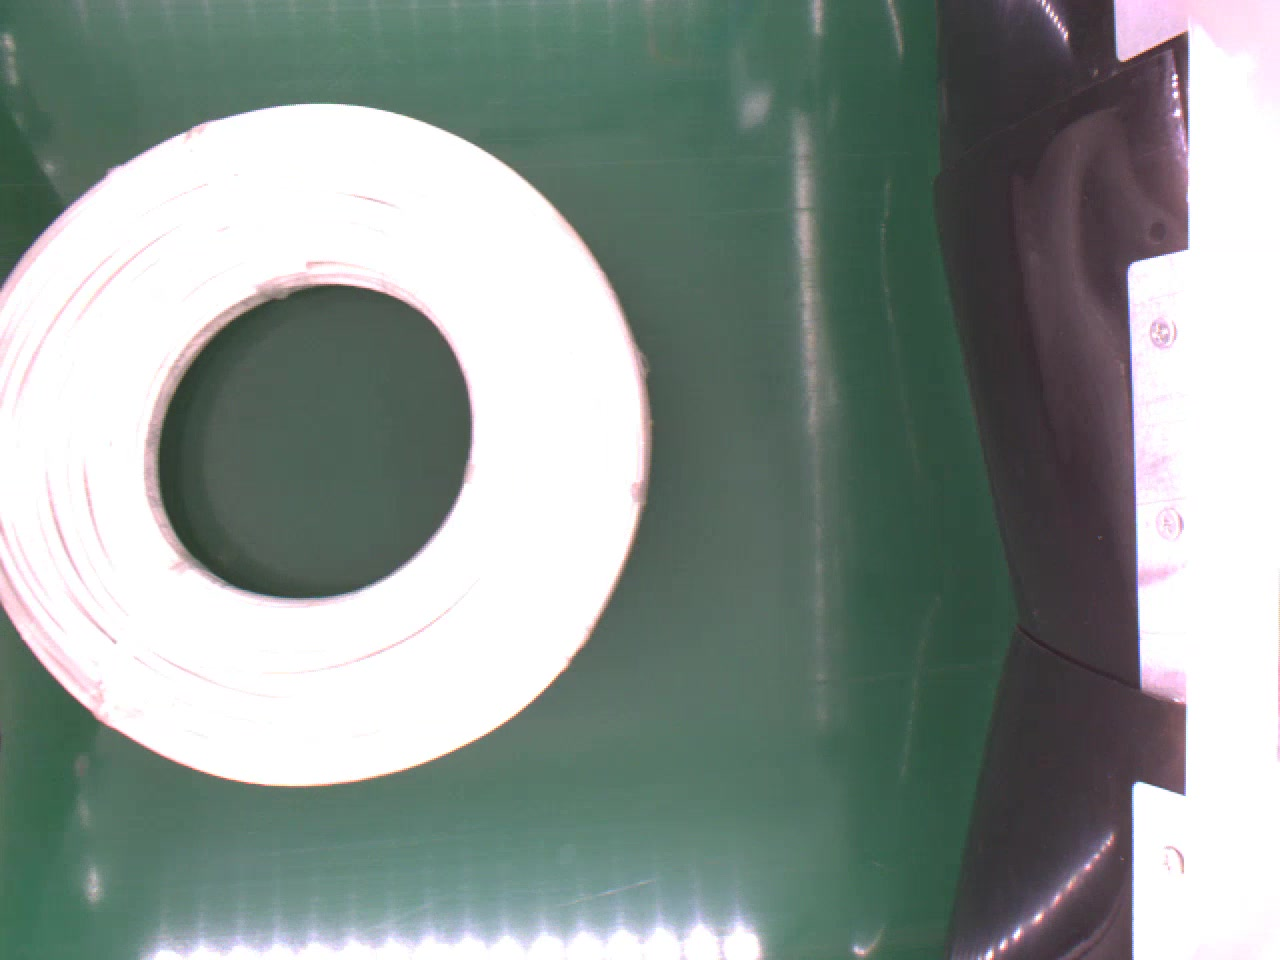white: (0, 95, 651, 787)
